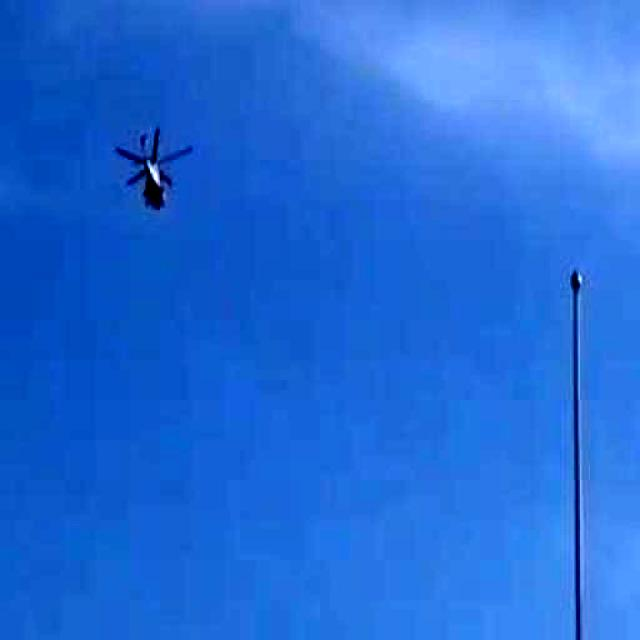drone: (81, 75, 225, 245)
